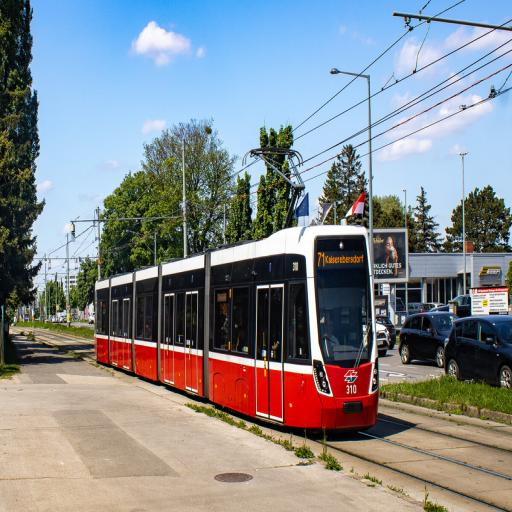Flexity: (94, 224, 380, 430)
